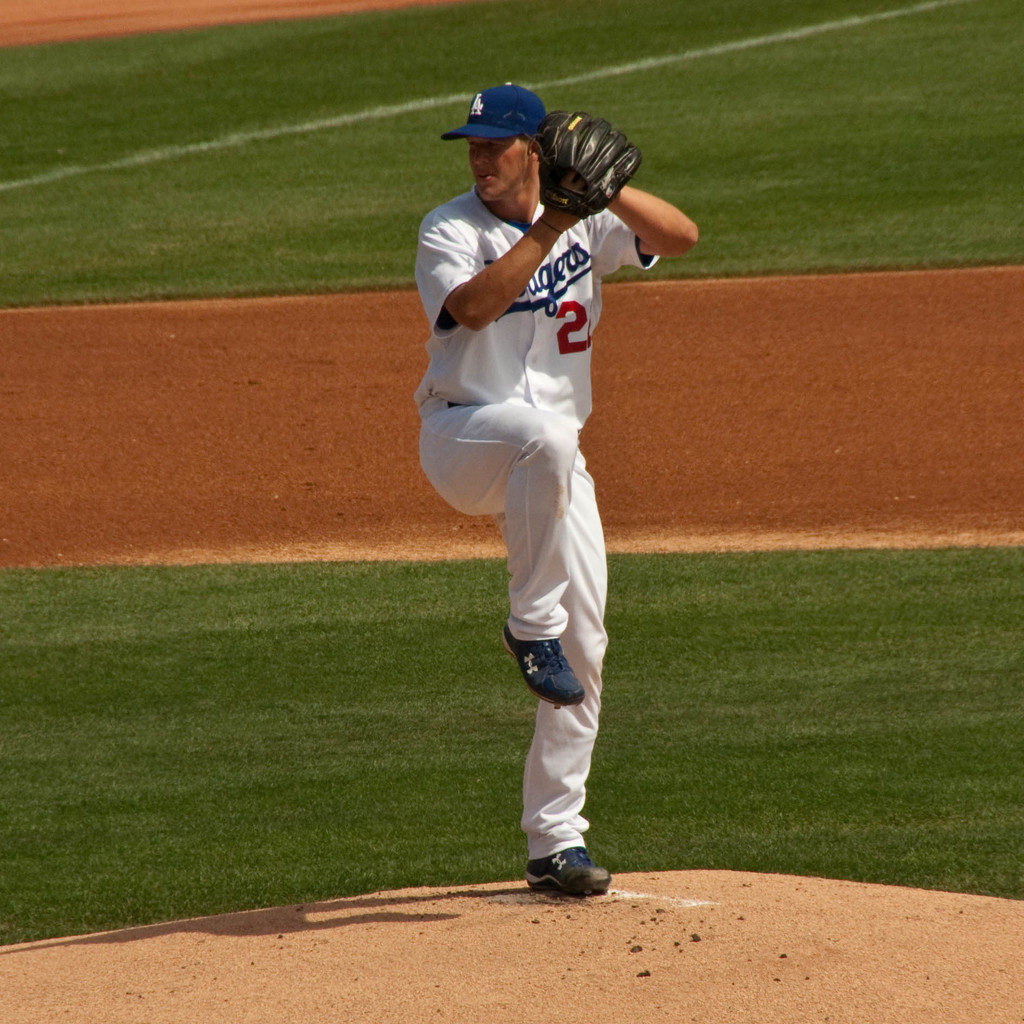Footwear: (500, 638, 586, 712), (527, 846, 614, 900)
